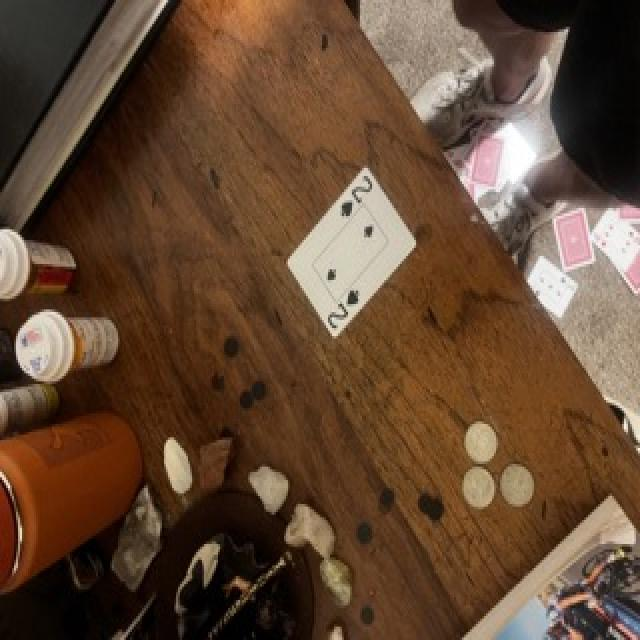2 of spades: (288, 168, 416, 337)
